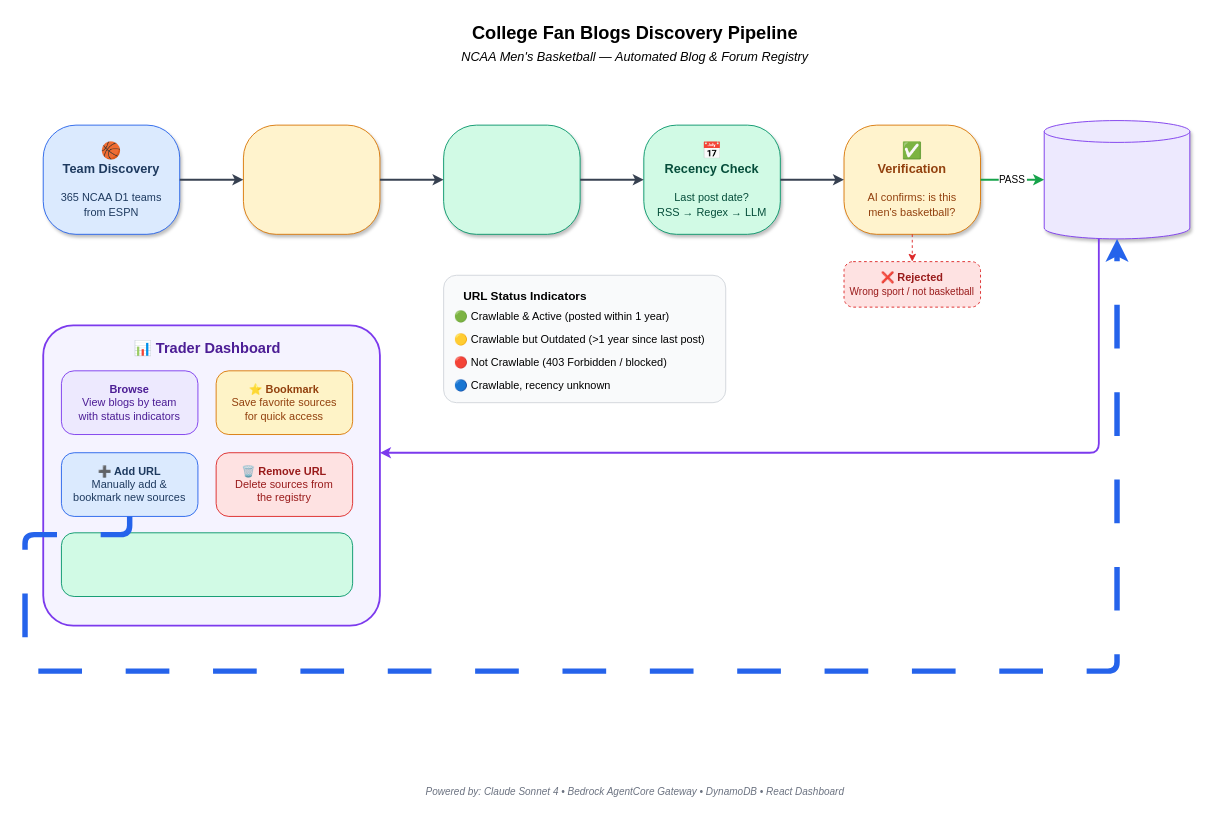
This 1211x818 diagram has some shape labels left out. The centre of each missing label's shape, as x and y in pixels:
"🌐 Access Check Is URL reachable? 200 OK vs 403/404" goes at point (512, 181).
"📈 Summary Coverage stats, gaps, crawl error breakdown" goes at point (207, 564).
"🔍 Blog Discovery AI searches for fan forums, blogs, RSS (per team)" goes at point (312, 181).
"🗄️ Blog Registry DynamoDB URLs + status per team" goes at point (1117, 180).
